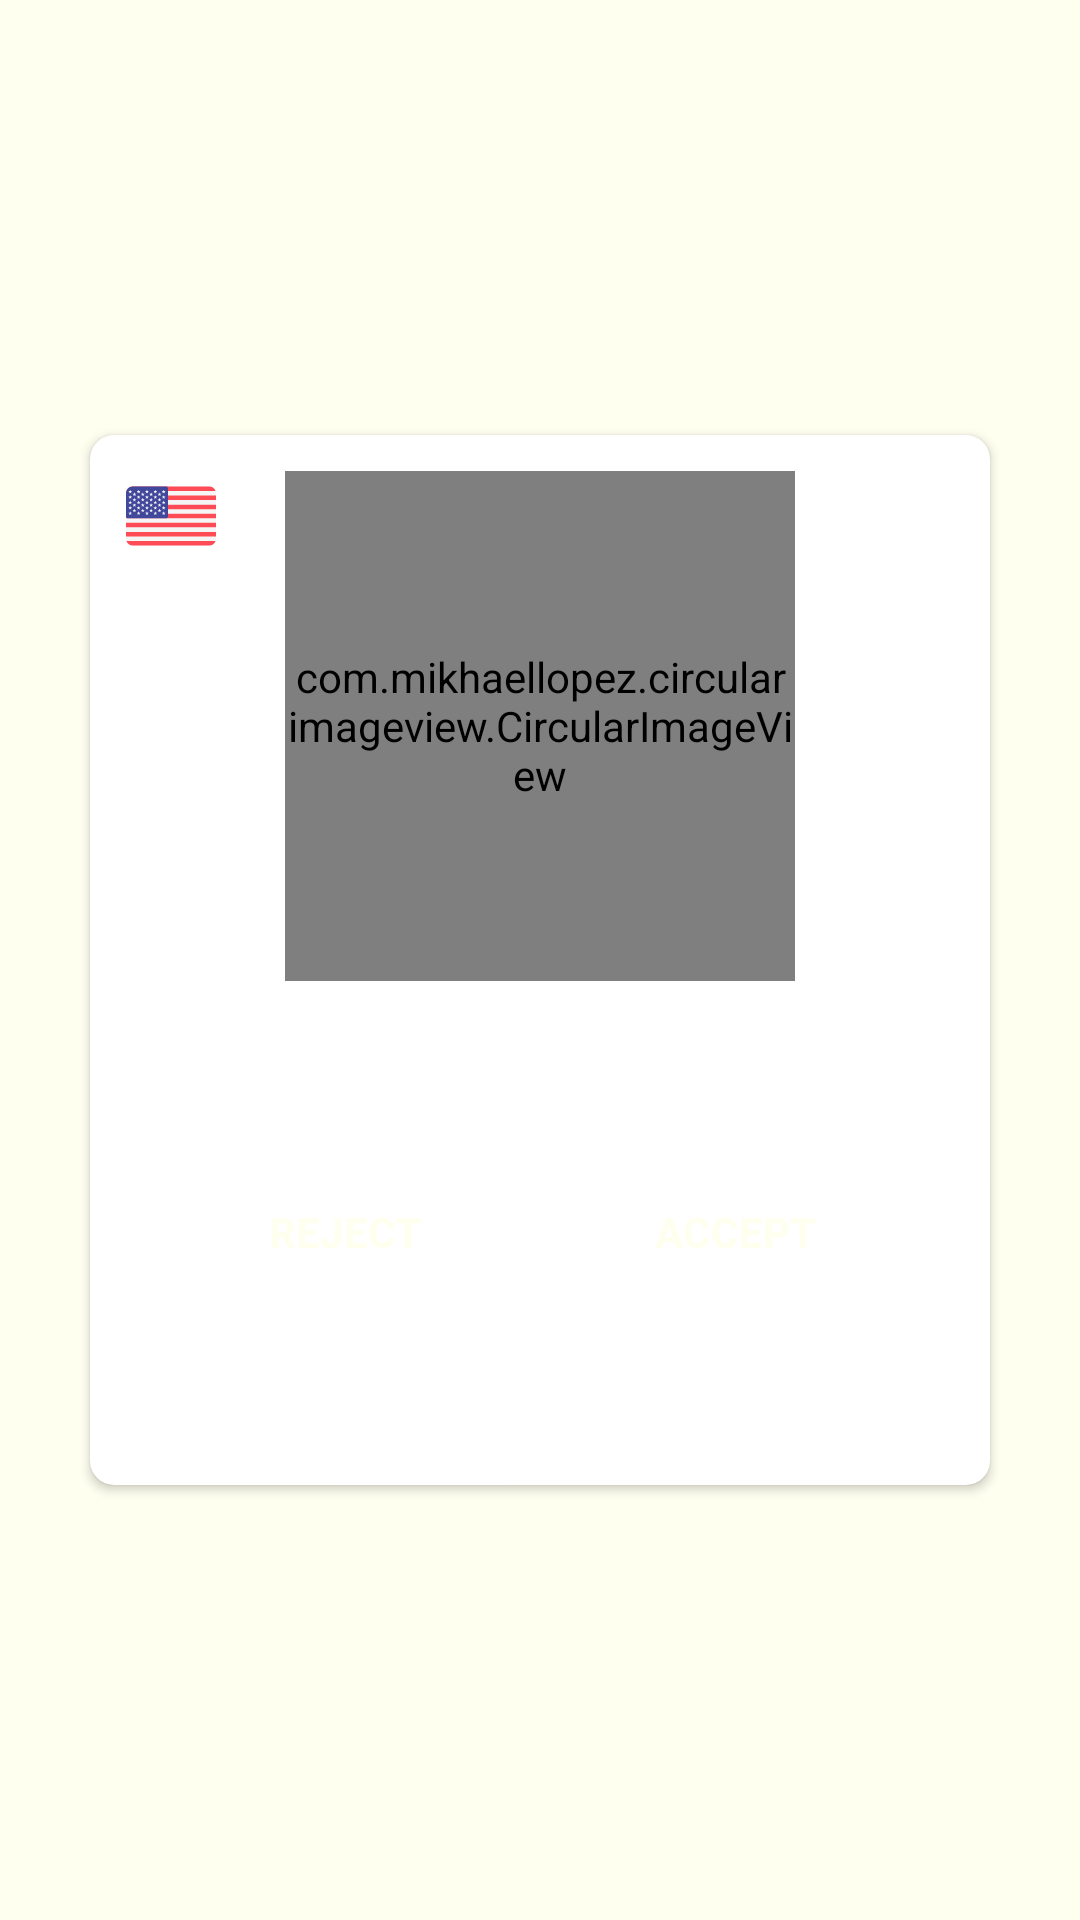

Named icons in this screenshot (1080px x 1920px) and their centers, (x,y):
united states: (171,516)
